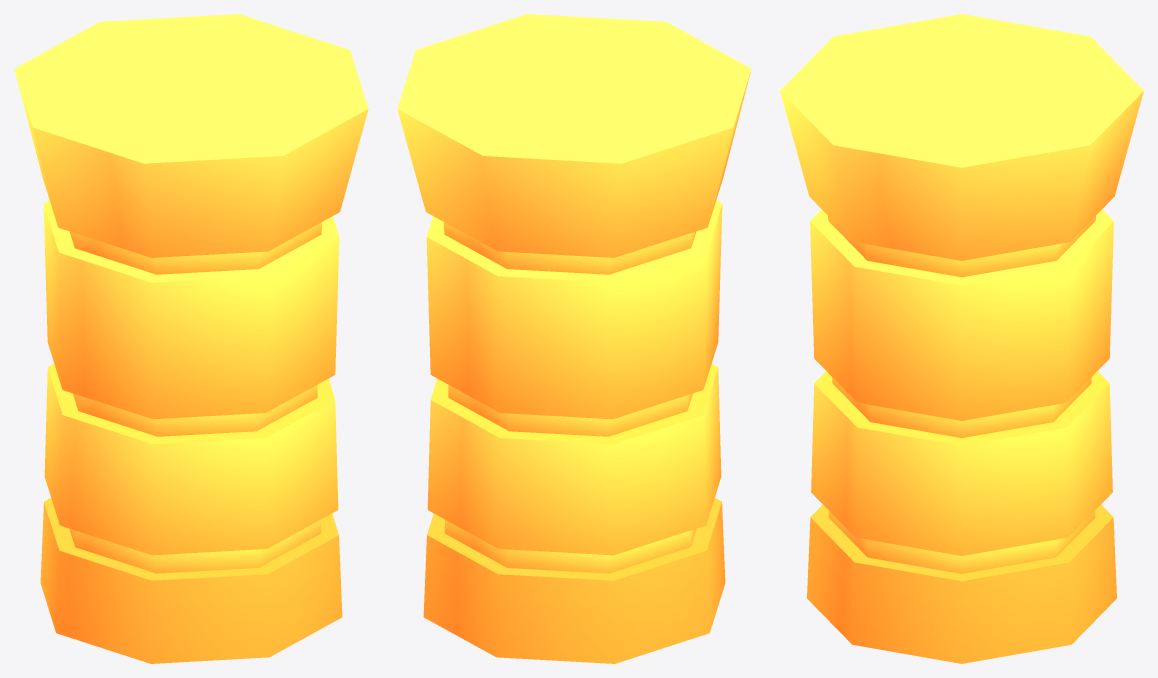
File: gold_grip_021.glb
3 renders of one model, left to right at view 1: azimuth 30°, elevation 25°; view 2: azimuth 150°, elevation 25°; view 3: azimuth 270°, elevation 25°, orthographic.
Parts seen in each view (by area): view 1: gold_grip_021; view 2: gold_grip_021; view 3: gold_grip_021.
Boxes of the visible parts, x1,y1,x2,y2 form: gold_grip_021: (14, 14, 368, 663); gold_grip_021: (397, 14, 751, 663); gold_grip_021: (780, 14, 1143, 663).
Size of the model in its own units: 2.2 by 3.38 by 2.2.
1 material, 1 textured.
